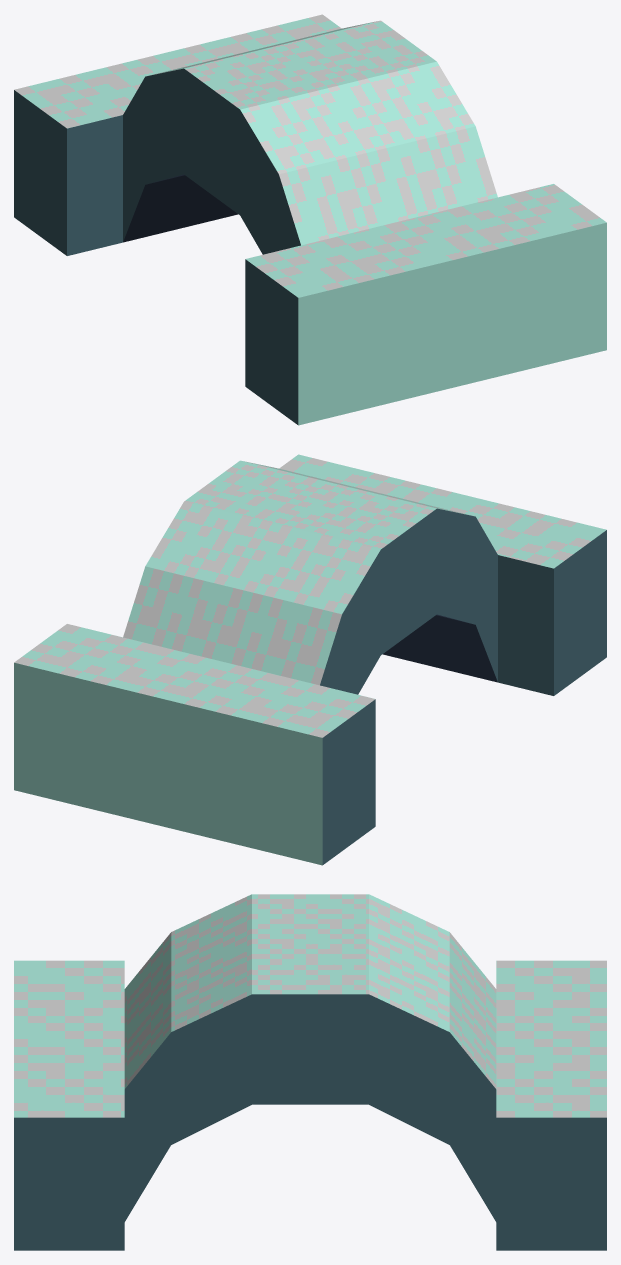
Rendered from arch.fbx.
The picture shows the model from 3 angles, top to bottom: view 1: azimuth 30°, elevation 25°; view 2: azimuth 150°, elevation 25°; view 3: azimuth 270°, elevation 25°; orthographic projection. The views are drawn at different scales.
Visible parts, largest first — view 1: arch; view 2: arch; view 3: arch.
Boxes of the visible parts, x1,y1,x2,y2 form: arch: (14,14,606,425); arch: (14,454,606,865); arch: (14,894,606,1250).
Size of the model in its own units: 100 by 67.73 by 160.
Materials: 1 (1 with a texture image).
